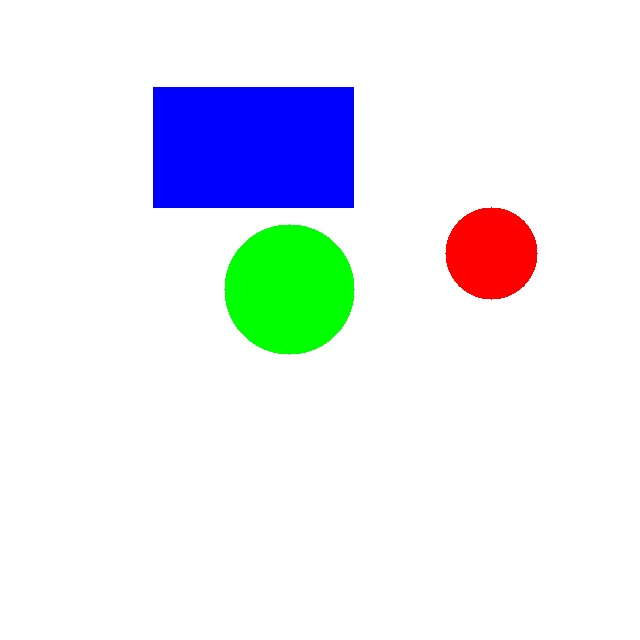cartao: (153, 87, 353, 207)
rosca_externa: (224, 224, 354, 354)
rosca_interna: (445, 207, 537, 299)
